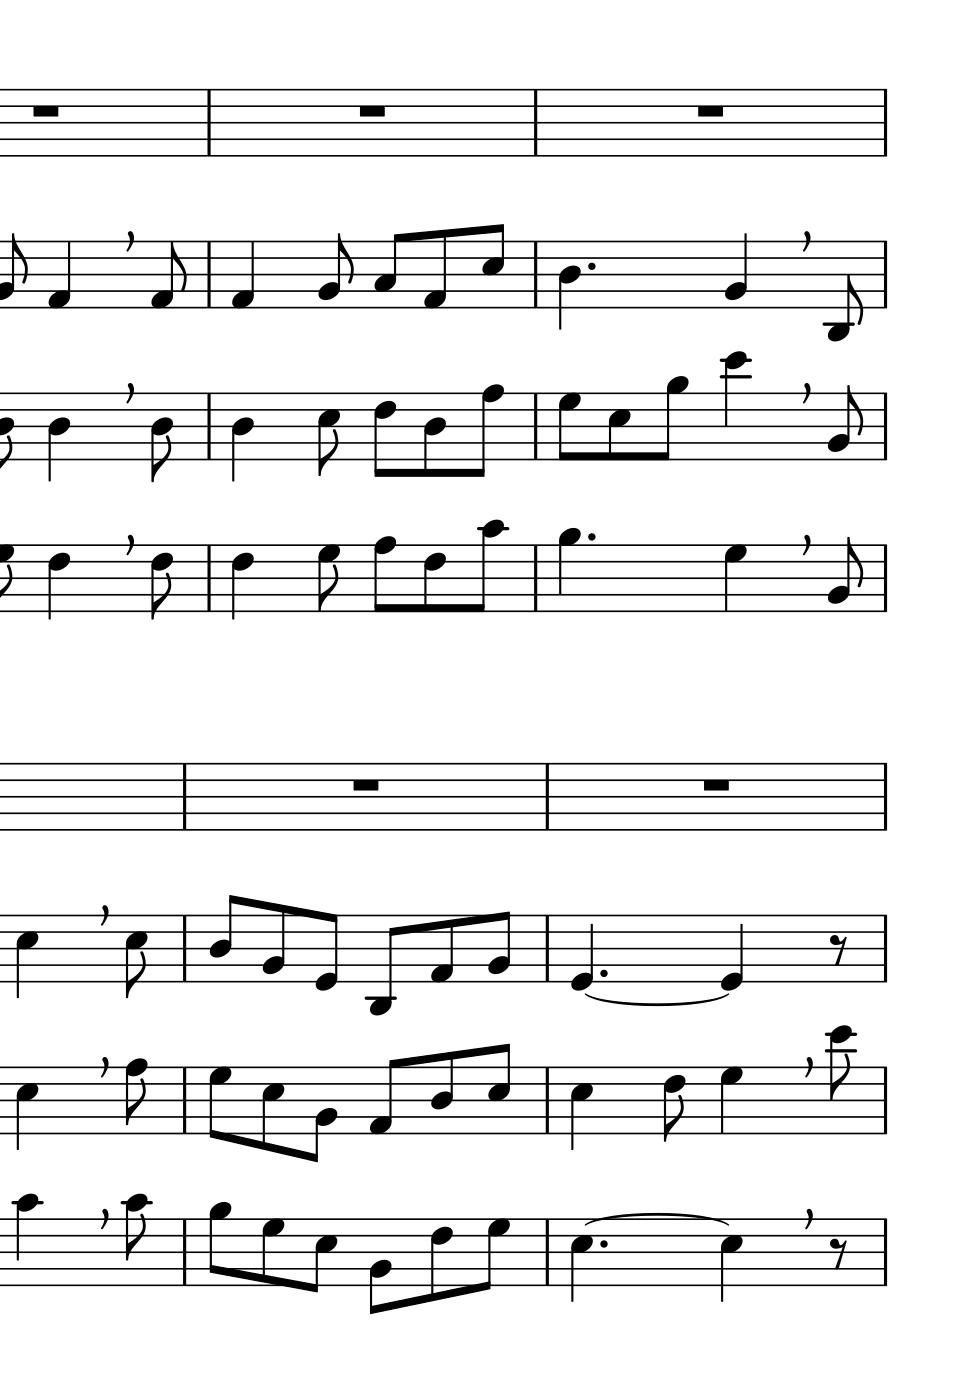4_0: (567, 913, 595, 992), (718, 912, 745, 992)
4_1: (45, 239, 72, 311), (229, 239, 256, 311)
4_10: (13, 1192, 41, 1289)
4_12: (719, 351, 750, 464)
4_2: (724, 230, 749, 311)
4_4: (46, 390, 73, 483), (555, 239, 581, 332), (228, 390, 253, 485)
4_5: (12, 912, 40, 1002), (13, 1064, 39, 1153), (568, 1065, 595, 1153), (717, 1217, 743, 1305), (568, 1217, 594, 1305)
4_6: (228, 542, 255, 622), (46, 542, 71, 621)
4_7: (720, 542, 749, 613), (718, 1065, 743, 1135)
4_9: (556, 526, 582, 614)
8_-3: (824, 238, 864, 344), (364, 913, 398, 1017)
8_0: (312, 910, 342, 993)
8_1: (148, 240, 188, 310), (367, 1056, 401, 1136), (422, 228, 449, 309), (428, 913, 455, 985)
8_10: (466, 517, 504, 615), (122, 1193, 151, 1289)
8_12: (826, 1024, 855, 1136)
8_2: (304, 1065, 338, 1165), (827, 536, 865, 614), (316, 232, 354, 310), (827, 383, 864, 462), (365, 1216, 393, 1314), (260, 902, 286, 985), (485, 910, 512, 985)
8_3: (372, 232, 404, 310)
8_4: (207, 893, 241, 984), (148, 390, 175, 483), (421, 391, 448, 480), (428, 1050, 455, 1136)
8_5: (485, 1042, 513, 1137), (307, 1217, 338, 1294), (314, 391, 342, 476), (479, 222, 506, 310), (259, 1065, 285, 1153), (122, 913, 148, 1000), (605, 391, 632, 462)
8_6: (147, 543, 176, 622), (371, 391, 397, 480), (428, 1217, 453, 1304), (661, 1065, 687, 1143), (421, 543, 447, 615)
8_7: (477, 1216, 509, 1293), (206, 1065, 232, 1143), (555, 391, 582, 463), (315, 543, 342, 614), (259, 1217, 285, 1288)
8_8: (468, 382, 505, 479), (122, 1057, 148, 1136), (371, 534, 396, 614)
8_9: (655, 375, 689, 463), (206, 1201, 232, 1289)
Rests1: (27, 101, 63, 120), (698, 775, 734, 794), (692, 101, 728, 119), (348, 775, 384, 793), (355, 101, 389, 119)
Rests8: (826, 1235, 848, 1271), (827, 932, 848, 968), (97, 1208, 109, 1231)
Single_barline: (526, 393, 545, 459), (200, 241, 217, 308), (876, 544, 893, 611), (527, 242, 544, 308), (200, 545, 217, 611), (876, 915, 893, 981), (876, 1220, 893, 1285), (200, 393, 217, 458), (527, 546, 544, 610), (877, 89, 893, 156), (877, 393, 893, 460), (877, 764, 893, 830), (539, 915, 555, 982), (539, 1067, 555, 1134), (527, 90, 543, 156), (176, 1067, 192, 1133), (876, 1067, 892, 1133), (176, 1220, 192, 1285), (539, 1220, 555, 1285), (177, 764, 192, 830), (539, 764, 554, 830), (202, 90, 216, 156), (877, 242, 892, 308), (177, 916, 192, 981)
Slur: (584, 992, 730, 1006), (584, 1211, 731, 1225)
dot: (584, 259, 598, 274), (584, 531, 598, 544), (597, 1236, 609, 1251), (597, 966, 609, 980)
